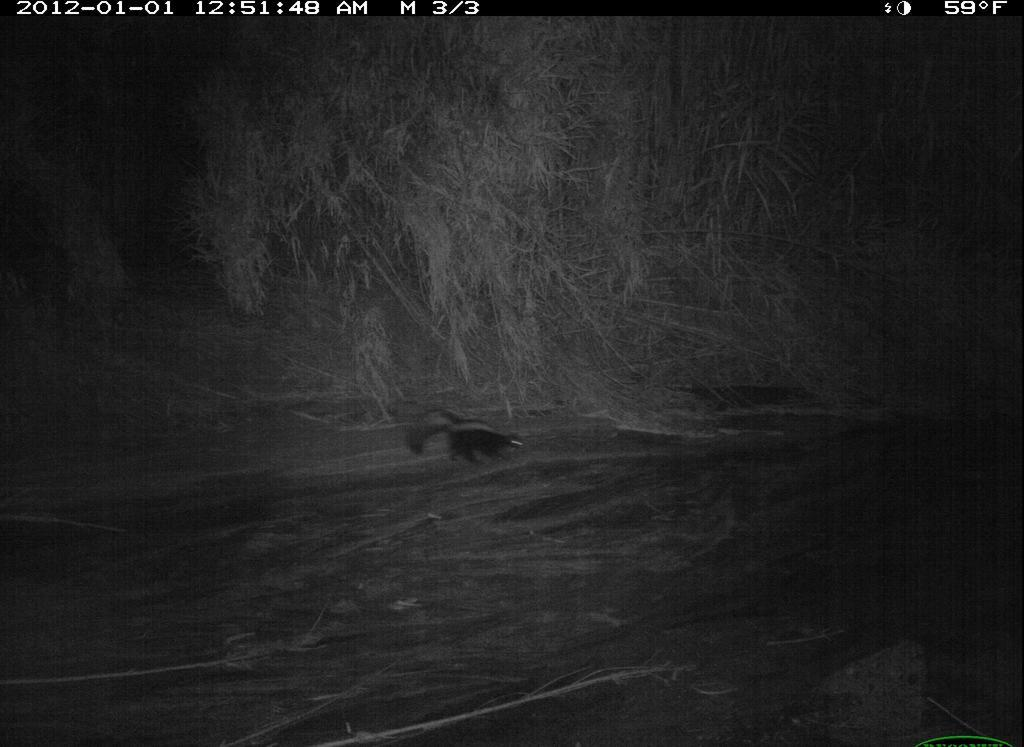skunk: (402, 404, 527, 472)
